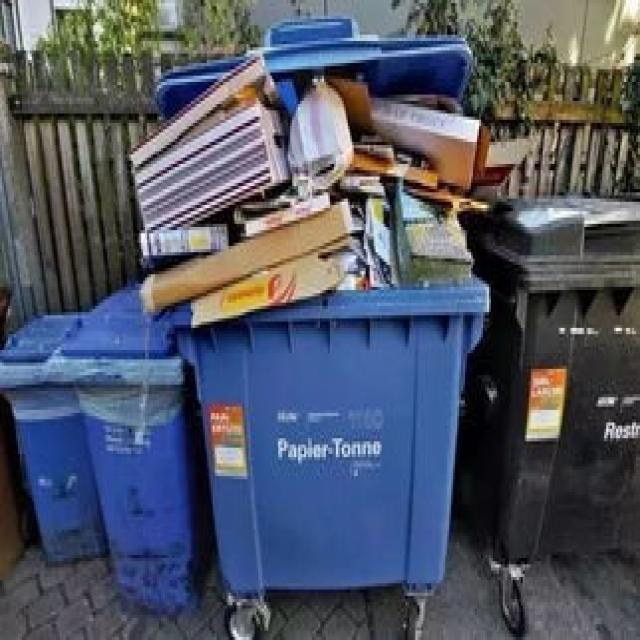garbage_bin: (461, 192, 638, 558), (62, 281, 195, 605), (0, 309, 105, 561)
overflow: (125, 12, 487, 590)
